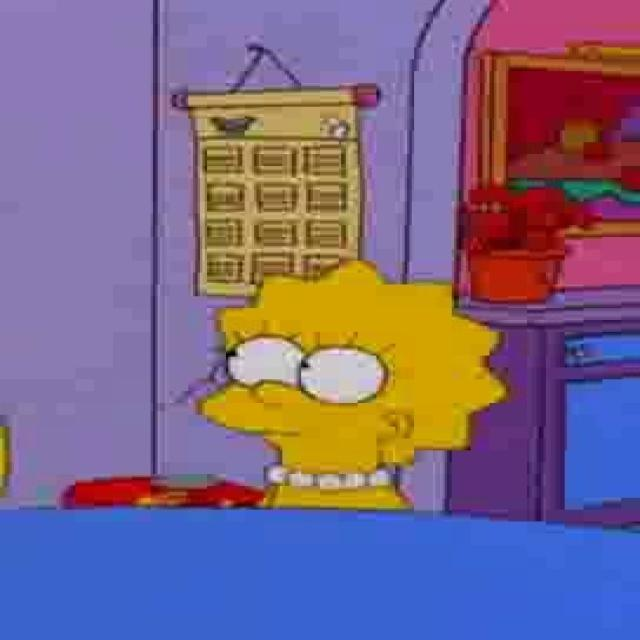Lisa Simpson: (194, 259, 512, 488)
